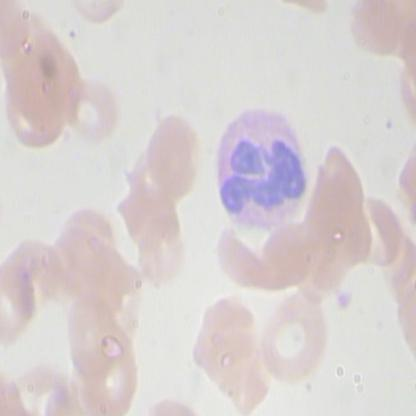Platelets: (334, 284, 355, 318)
RBC: (259, 281, 339, 383), (122, 190, 199, 294), (46, 197, 123, 300), (191, 290, 267, 392), (0, 58, 74, 151), (144, 98, 206, 204), (314, 134, 376, 240), (76, 317, 138, 415), (62, 286, 122, 385), (58, 77, 124, 145), (1, 252, 43, 352)
WBC: (202, 100, 319, 242)
